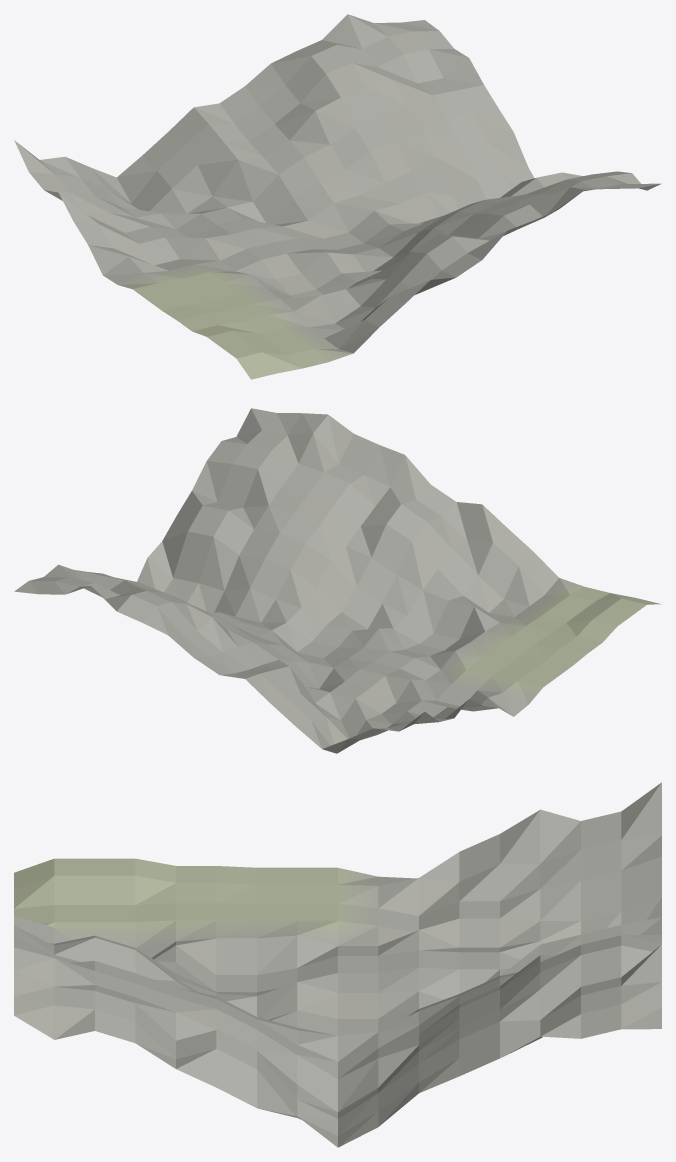
3 views of the same model, one above another, from view 1: azimuth 30°, elevation 25°; view 2: azimuth 150°, elevation 25°; view 3: azimuth 270°, elevation 25° (orthographic). The views are drawn at different scales.
Size of the model in its own units: 32 by 9.16 by 32.
